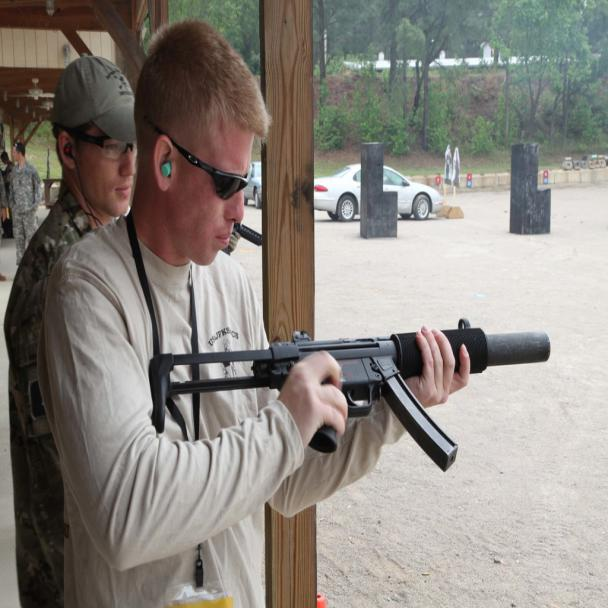Gun: (149, 306, 555, 410)
Hand: (282, 344, 362, 471), (409, 323, 476, 419)
